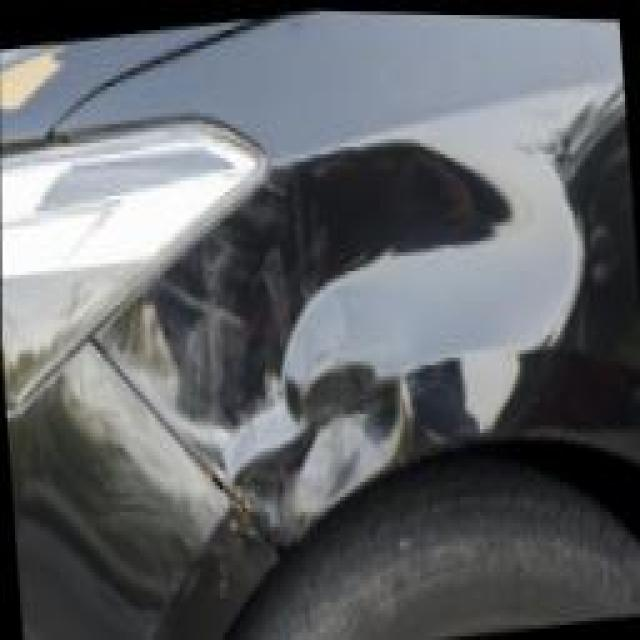Bumper: (112, 542, 210, 640)
Fender: (185, 94, 574, 518)
